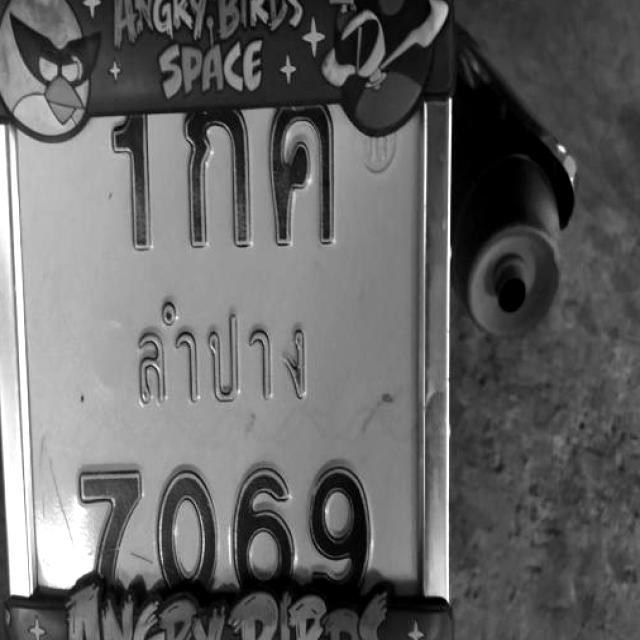letters: (267, 92, 346, 258), (183, 88, 256, 257), (91, 92, 162, 262), (304, 467, 381, 600), (154, 464, 224, 604), (67, 454, 130, 608), (232, 460, 296, 608)
license-plate: (0, 20, 440, 640)
province: (130, 297, 345, 426)
